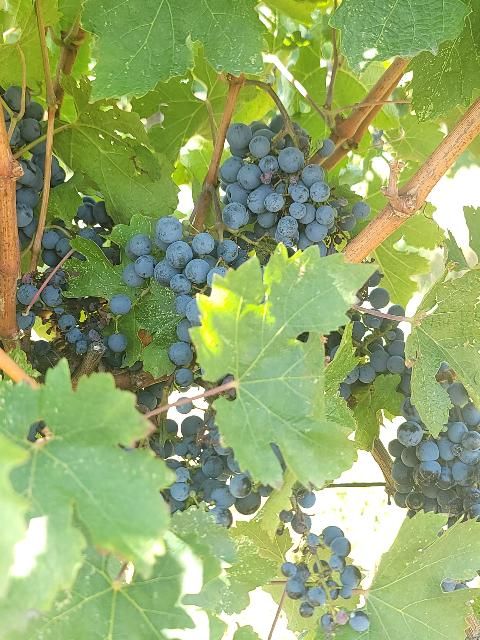grapes: (219, 115, 370, 256), (122, 216, 248, 366), (389, 361, 480, 525), (280, 508, 370, 638)
